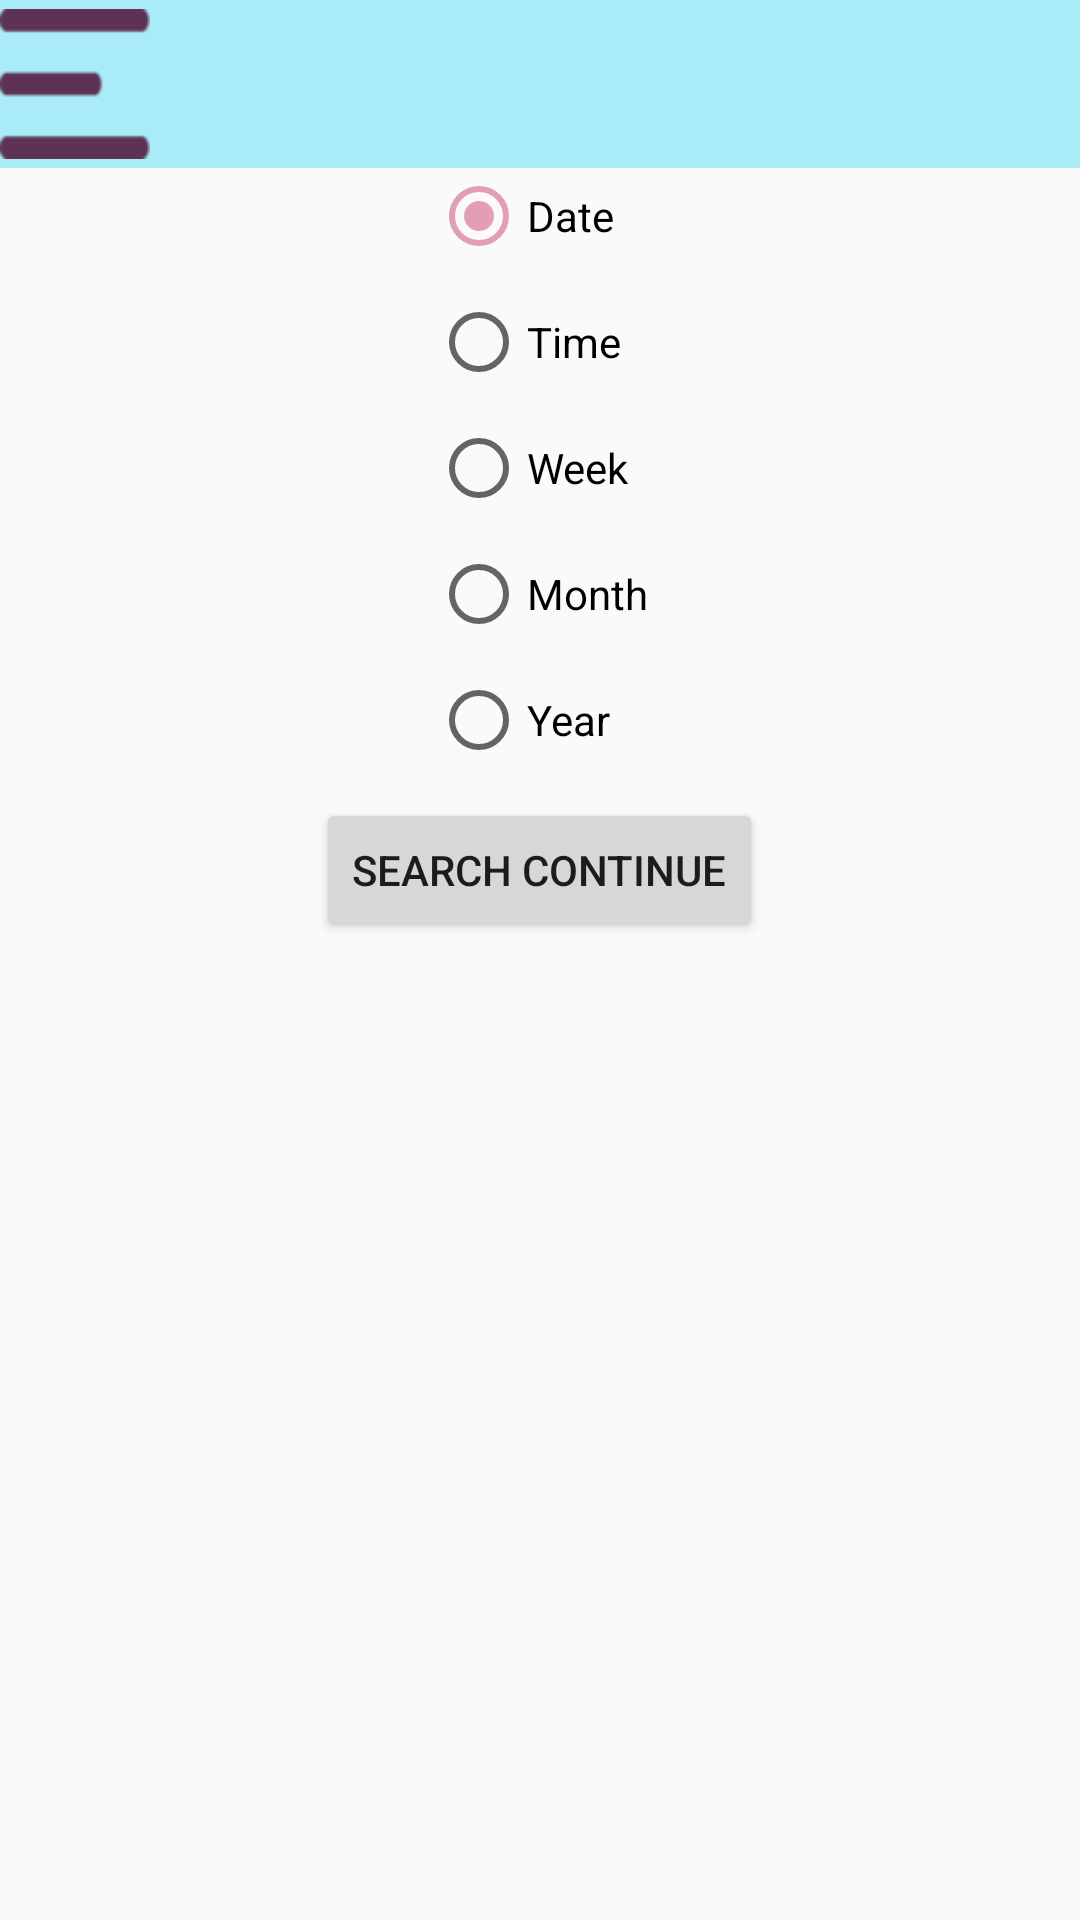

Where icons sit on this 1080*1920 app screen, as (x1, y1, x2, y2):
nav: (0, 9, 150, 159)
